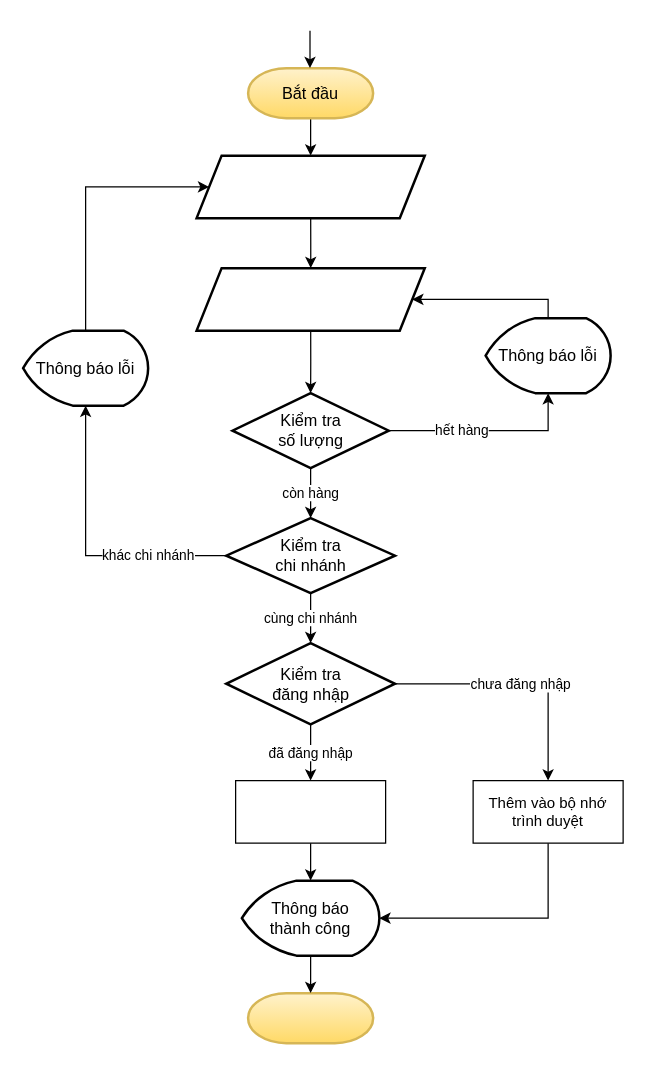
Some shapes in this 645 by 1066 pixel diagram are drawn without their labels. The centre of each missing label's shape, as x and y in pixels:
"id cửa hàng" belongs at pixel 310 186.
"Kết thúc" belongs at pixel 310 1017.
"Số lượng muốn thêm" belongs at pixel 310 298.
"Thêm vào CSDL" belongs at pixel 310 811.
